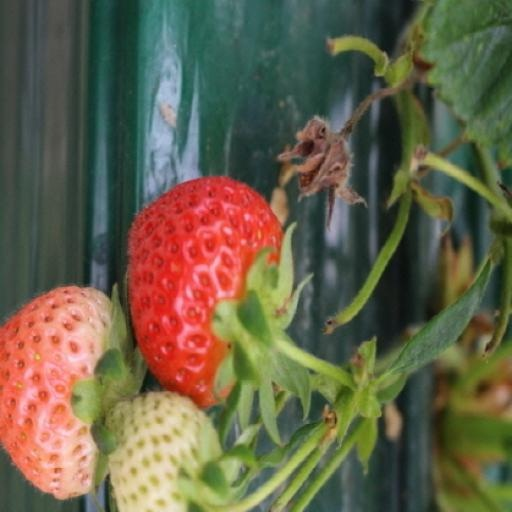Gray Mold: (144, 275, 234, 396)
